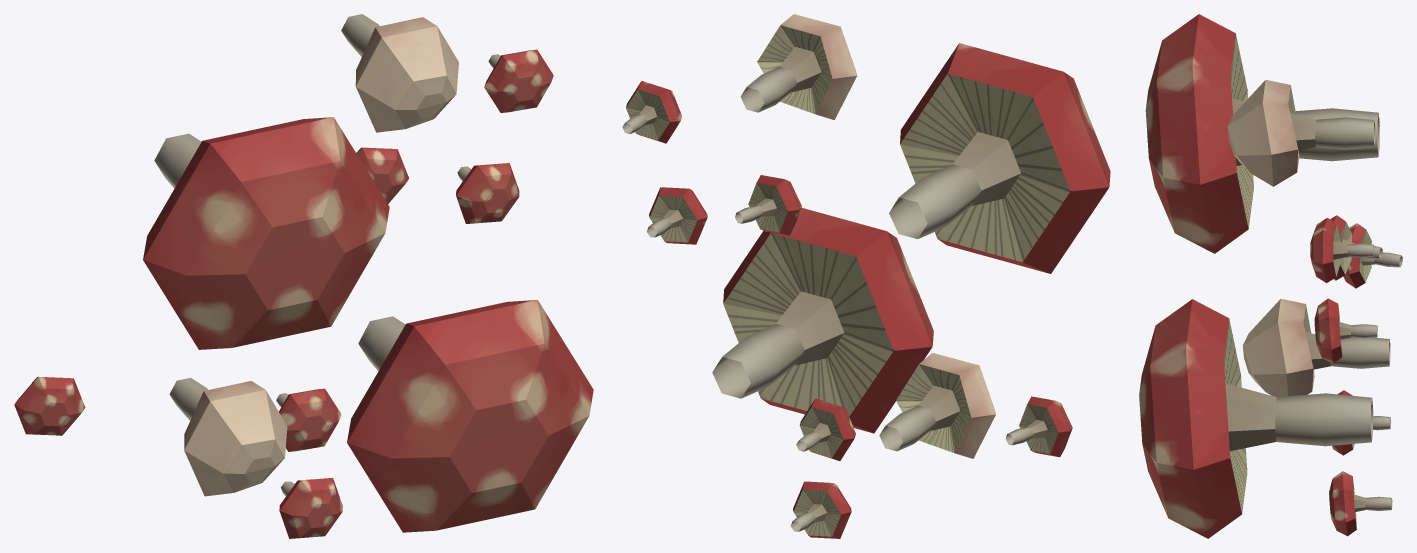
The model's file is Mushroom1.fbx.
The picture shows the model from 3 angles, left to right: view 1: azimuth 30°, elevation 25°; view 2: azimuth 150°, elevation 25°; view 3: azimuth 270°, elevation 25°; orthographic projection. The views are drawn at different scales.
Visible parts, largest first — view 1: Mushroom1; view 2: Mushroom1; view 3: Mushroom1.
Part boxes in pixels (x1,y1,x2,y2): Mushroom1: [14, 14, 593, 538]; Mushroom1: [622, 14, 1110, 538]; Mushroom1: [1139, 14, 1402, 538].
Size of the model in its own units: 429 by 421 by 218.
Materials: 1 (1 with a texture image).
